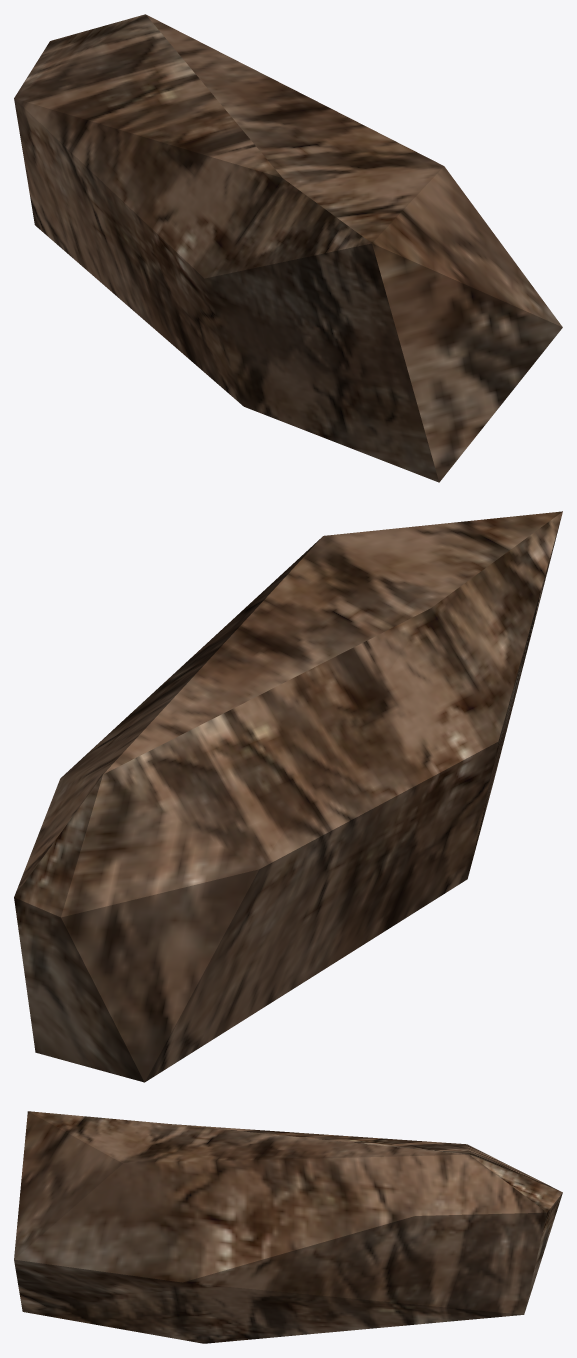
Rendered from MEP_DesertCliff_S_08.fbx.
The picture shows the model from 3 angles, top to bottom: view 1: azimuth 30°, elevation 25°; view 2: azimuth 150°, elevation 25°; view 3: azimuth 270°, elevation 25°; orthographic projection. The views are drawn at different scales.
Visible parts, largest first — view 1: MEP_Desert_Cliff_08; view 2: MEP_Desert_Cliff_08; view 3: MEP_Desert_Cliff_08.
Part boxes in pixels (x1,y1,x2,y2): MEP_Desert_Cliff_08: (14, 14, 562, 482); MEP_Desert_Cliff_08: (14, 511, 562, 1082); MEP_Desert_Cliff_08: (14, 1111, 562, 1343).
Bounding box in the file's own units: 1.95 × 2.11 × 5.13.
